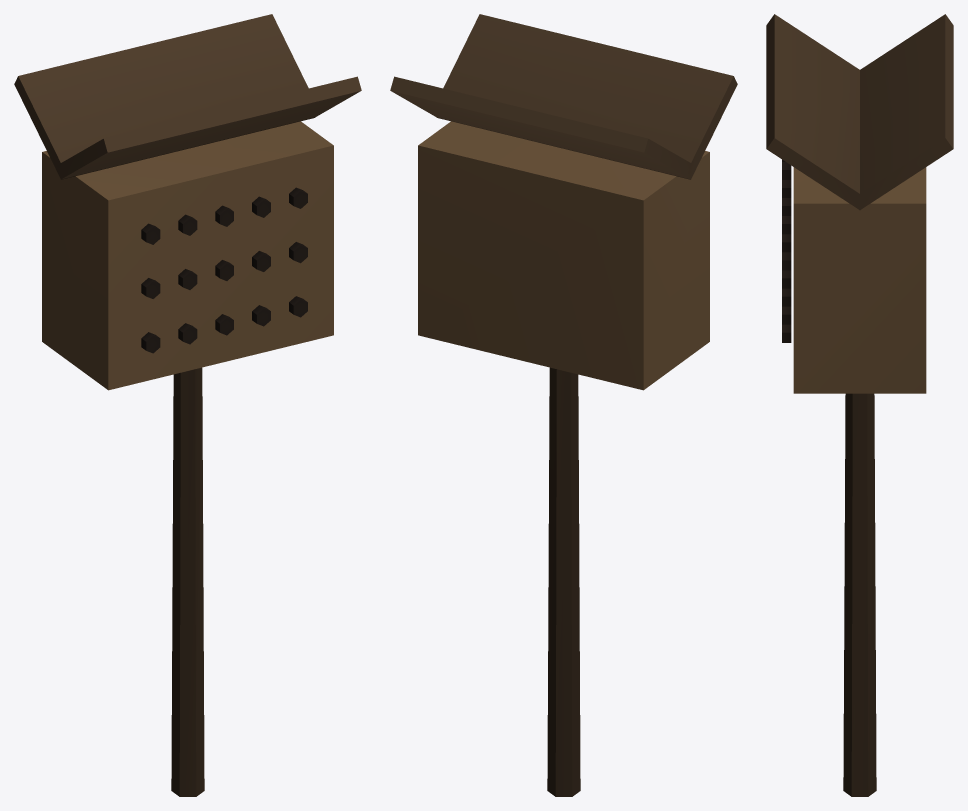
File: struct_bee_hotel.glb
3 views of the same model, side by side, from view 1: azimuth 30°, elevation 25°; view 2: azimuth 150°, elevation 25°; view 3: azimuth 270°, elevation 25° (orthographic).
Parts seen in each view (by area): view 1: house, roof, pole, holes; view 2: house, roof, pole; view 3: house, roof, pole, holes.
Boxes of the visible parts, x1,y1,x2,y2 form: house: (42,121,333,390); roof: (14,14,361,179); pole: (171,367,204,796); holes: (141,187,307,353); house: (418,121,709,390); roof: (390,14,737,179); pole: (547,367,580,796); house: (793,167,926,393); roof: (766,14,953,210); pole: (843,393,876,796); holes: (782,159,791,342).
Bounding box in the file's own units: 0.588 × 1.58 × 0.3746.
